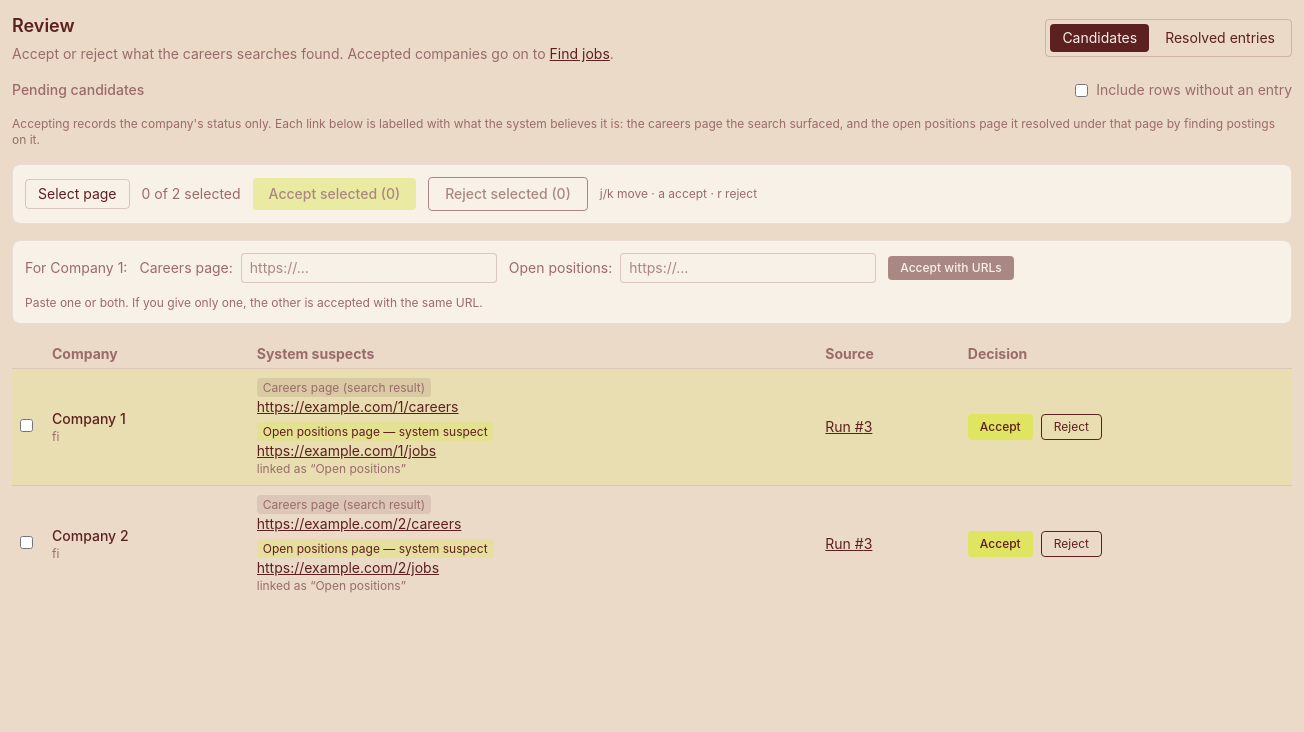
Test: demo review screen › reports stale ids from a batch and refreshes the list
Expected: the text "Company 1" is shown, [52, 410, 126, 427]
Click the button "Select page": (77, 194) [25, 179, 130, 209]
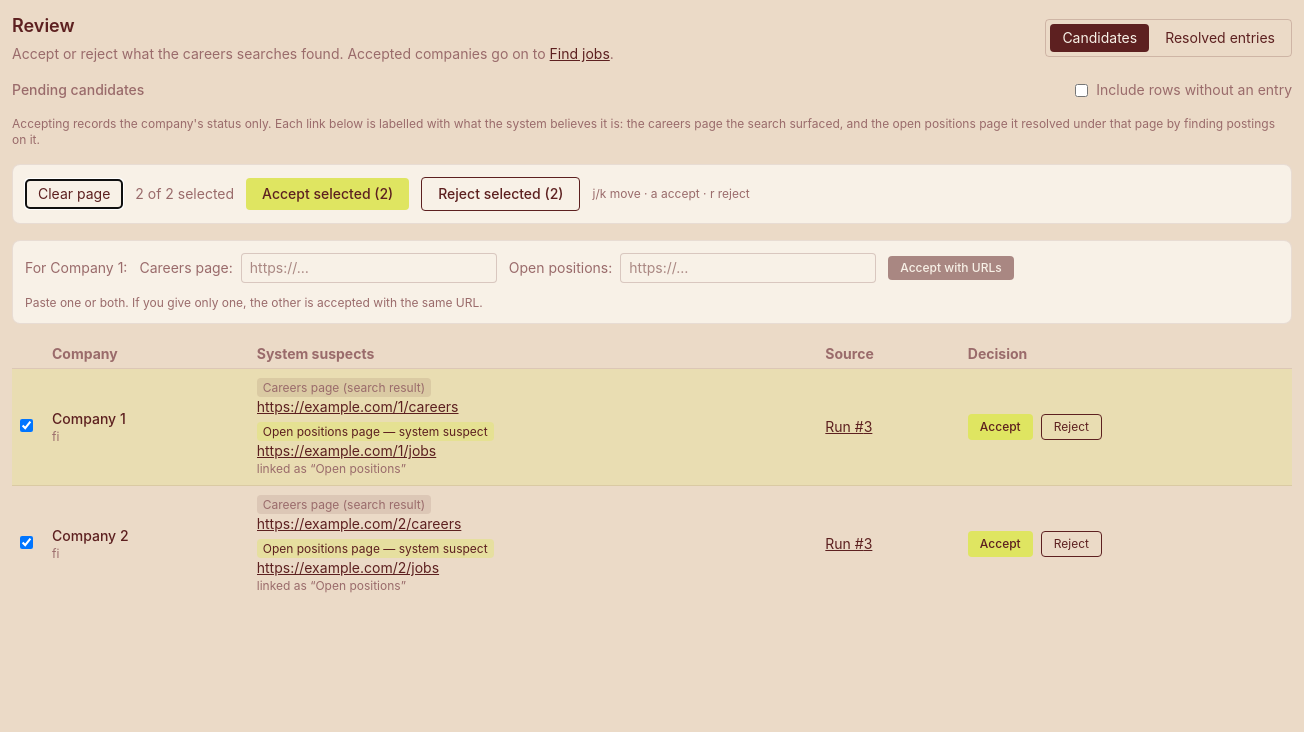
Click the button "Accept selected (2)": (328, 194) [246, 178, 409, 210]
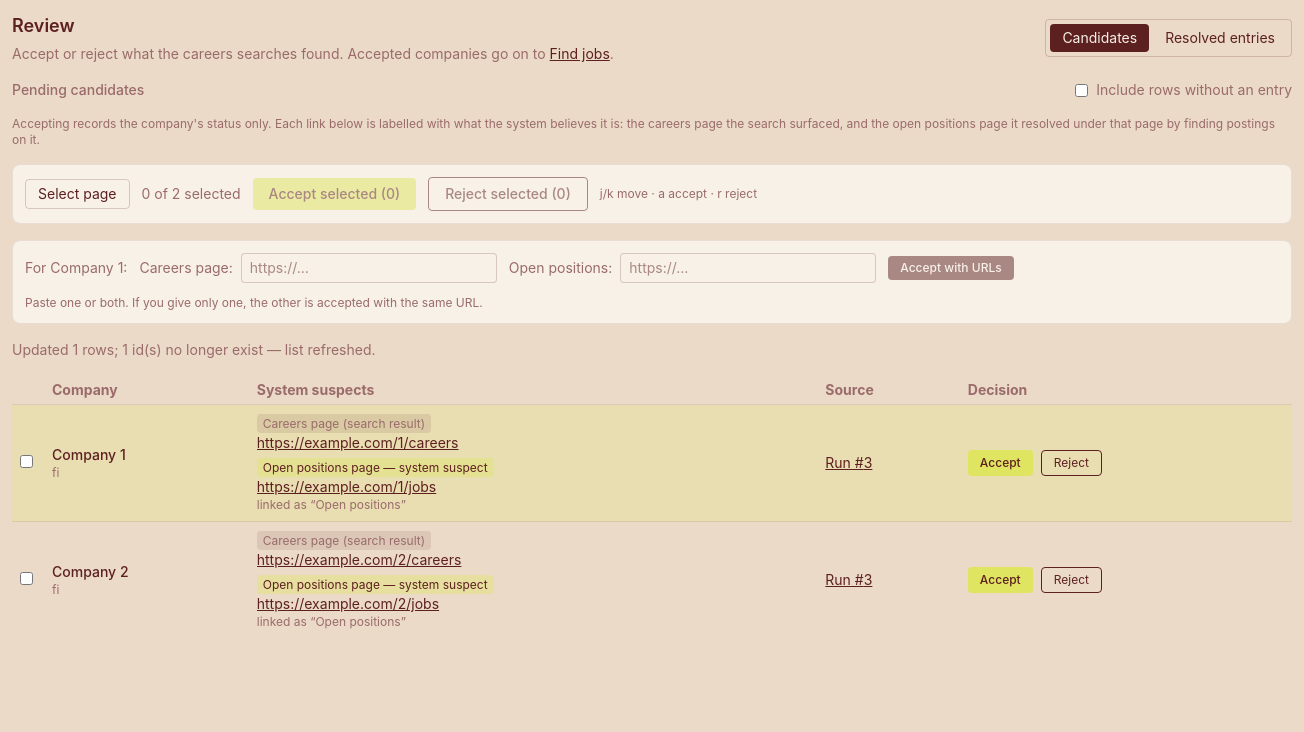
Expected: the text "Updated 1 rows; 1 id(s) no longer exist — list refreshed." is shown, [12, 341, 376, 358]
Expected: the text "0 of 2 selected" is shown, [142, 184, 241, 204]
